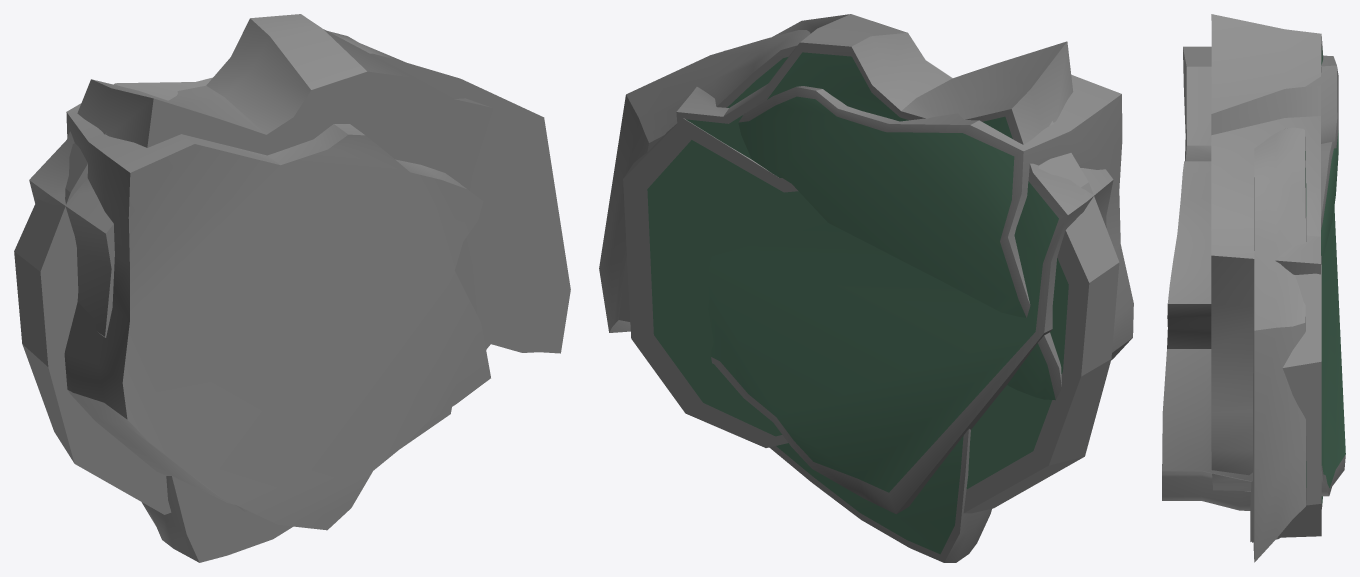
The model's file is Mossy Rocks.fbx.
3 views of the same model, side by side, from view 1: azimuth 30°, elevation 25°; view 2: azimuth 150°, elevation 25°; view 3: azimuth 270°, elevation 25° (orthographic). The views are drawn at different scales.
Parts seen in each view (by area): view 1: Mossy Rock 1, Mossy Rock 2, Mossy Rock 3, Mossy Rock 4; view 2: Mossy Rock 2, Mossy Rock 4, Mossy Rock 1, Mossy Rock 3; view 3: Mossy Rock 2, Mossy Rock 1, Mossy Rock 3, Mossy Rock 4.
Boxes of the visible parts, x1,y1,x2,y2 form: Mossy Rock 1: (64,77,490,530); Mossy Rock 2: (29,14,492,511); Mossy Rock 3: (141,31,570,562); Mossy Rock 4: (14,131,490,514); Mossy Rock 2: (676,14,1113,514); Mossy Rock 4: (623,118,1119,513); Mossy Rock 1: (738,75,1133,400); Mossy Rock 3: (599,30,991,562); Mossy Rock 2: (1211,14,1345,496); Mossy Rock 1: (1162,46,1338,510); Mossy Rock 3: (1250,127,1322,562); Mossy Rock 4: (1278,256,1321,537).
Size of the model in its own units: 509 by 463 by 166.
